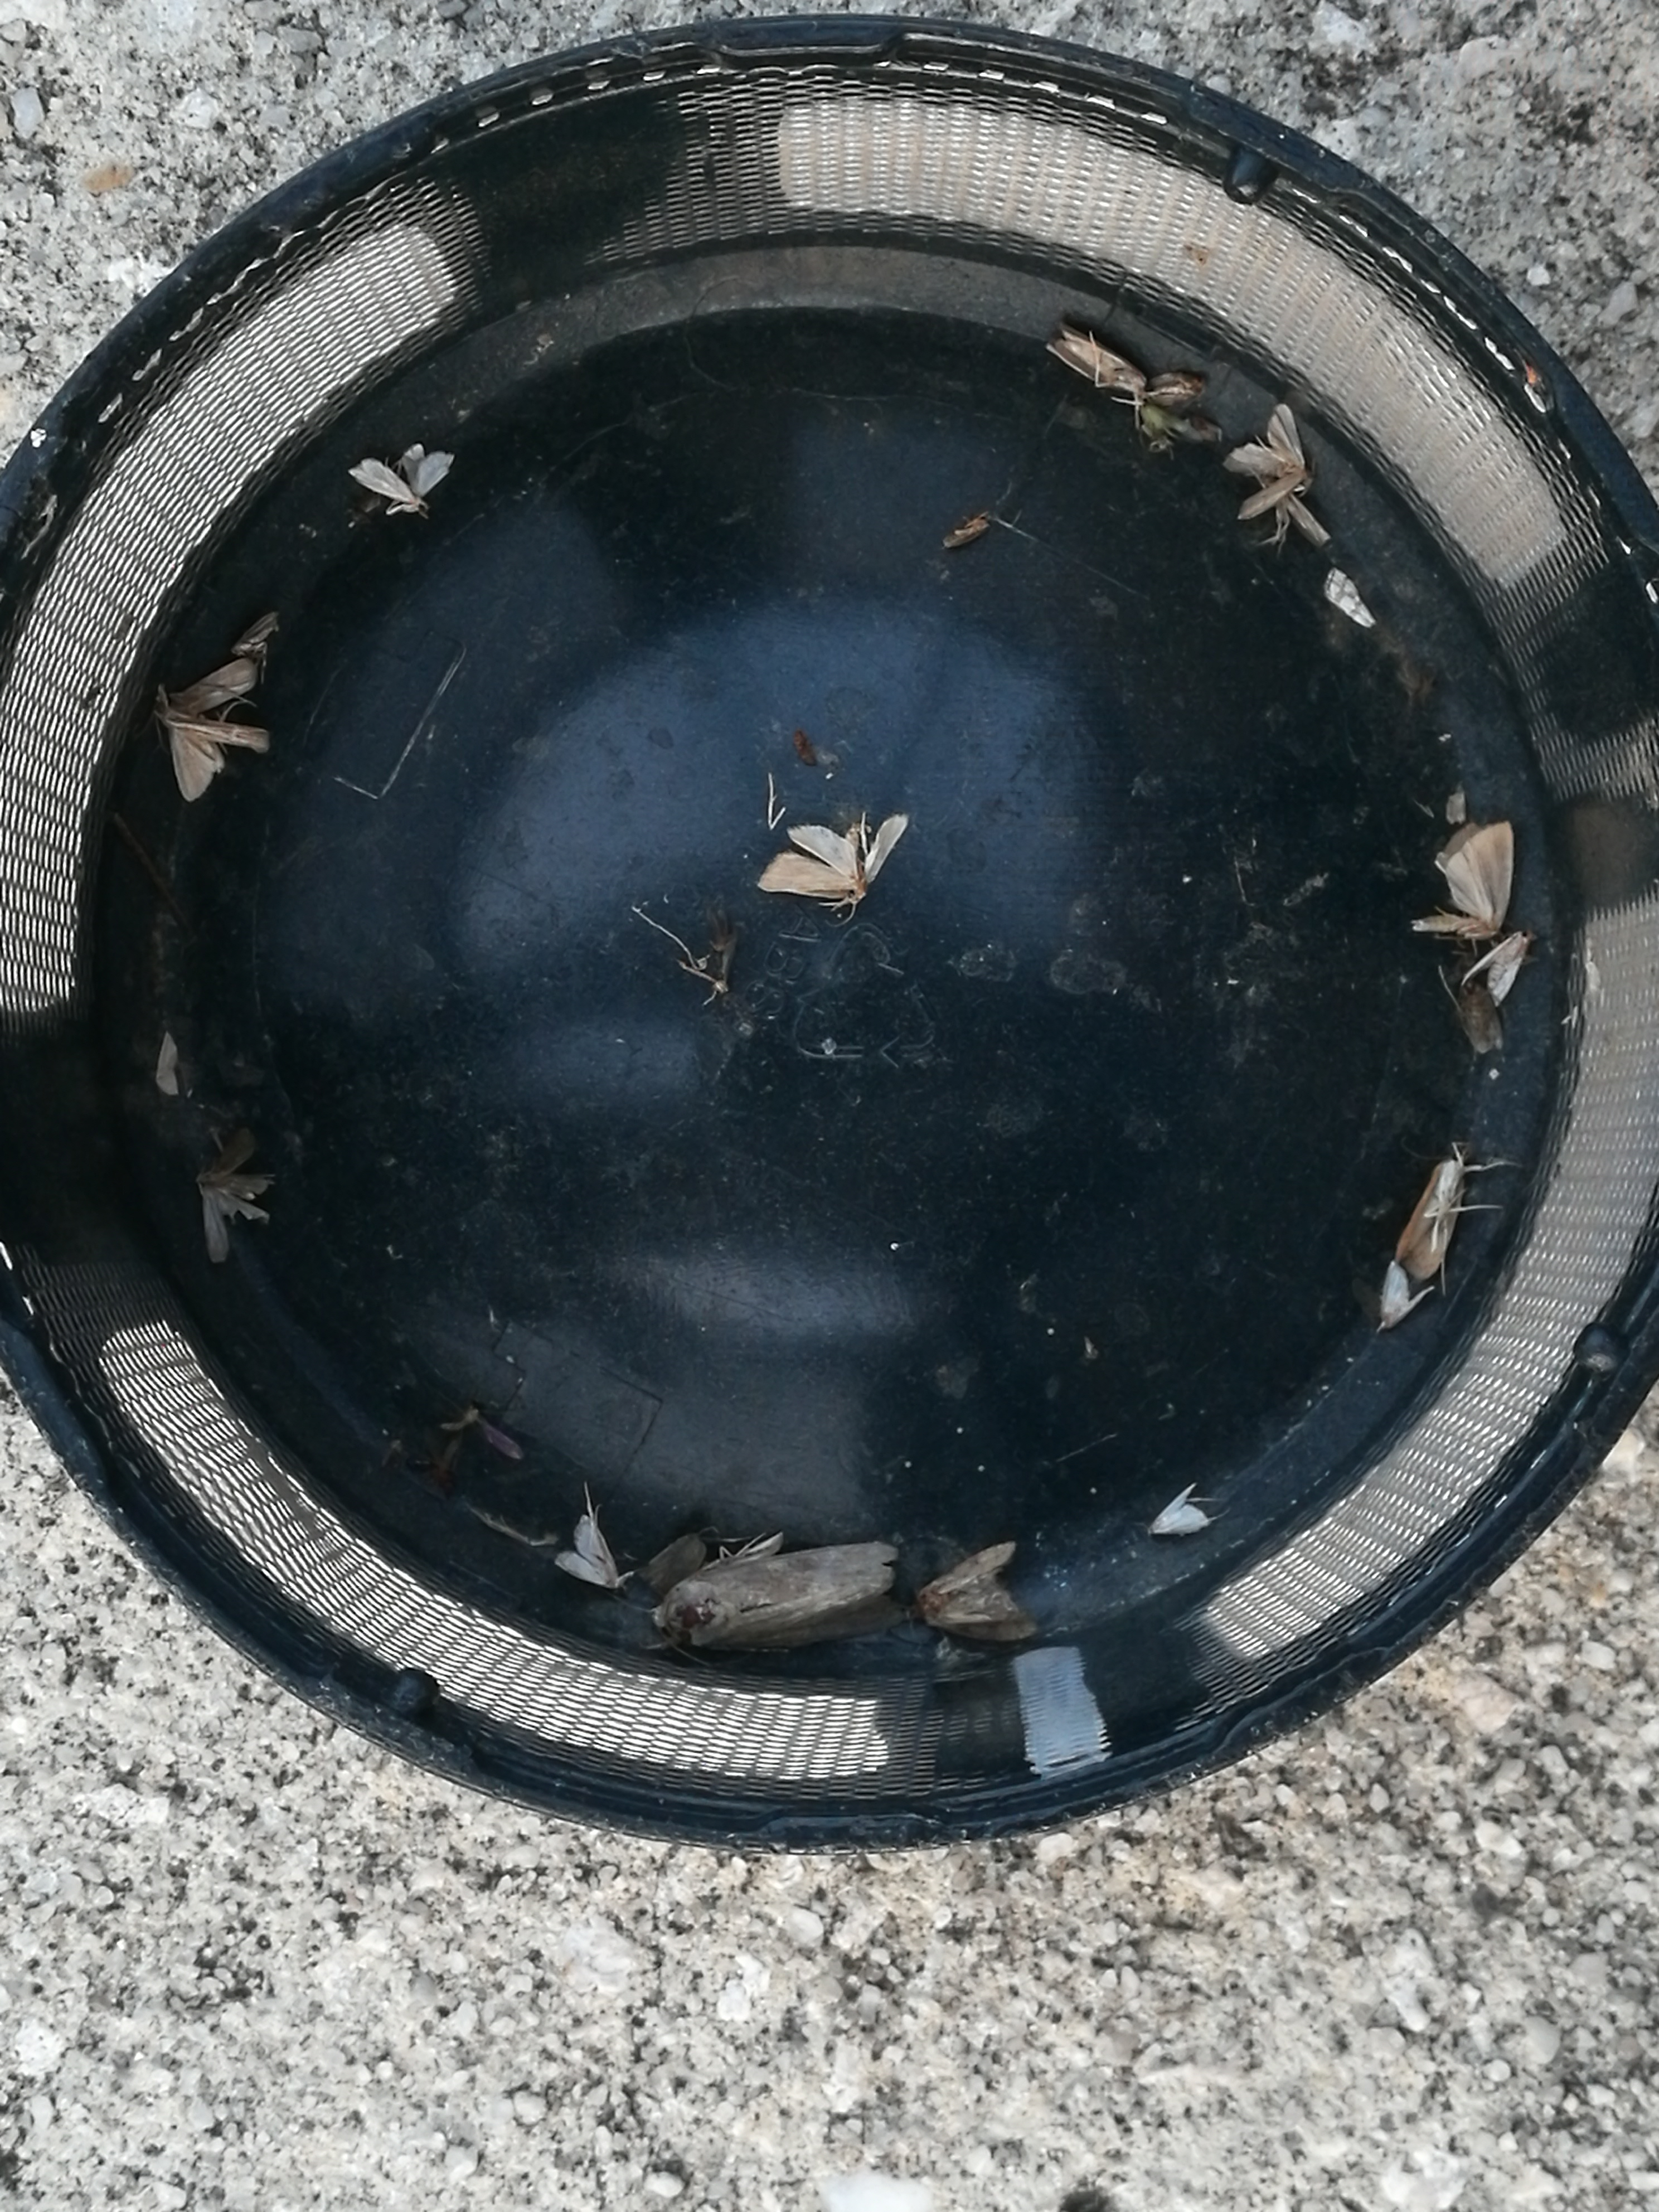mosquito: (1049, 326, 1145, 388), (232, 613, 277, 657), (945, 517, 988, 549)
moth: (653, 1543, 903, 1648), (160, 660, 270, 799), (758, 812, 910, 902), (1415, 819, 1514, 934), (922, 1543, 1039, 1641), (199, 1127, 268, 1263), (1225, 406, 1303, 517), (1396, 1157, 1466, 1278), (350, 444, 455, 514), (556, 1515, 622, 1588), (1377, 1266, 1432, 1329), (1478, 932, 1528, 998), (1147, 1482, 1208, 1534)
